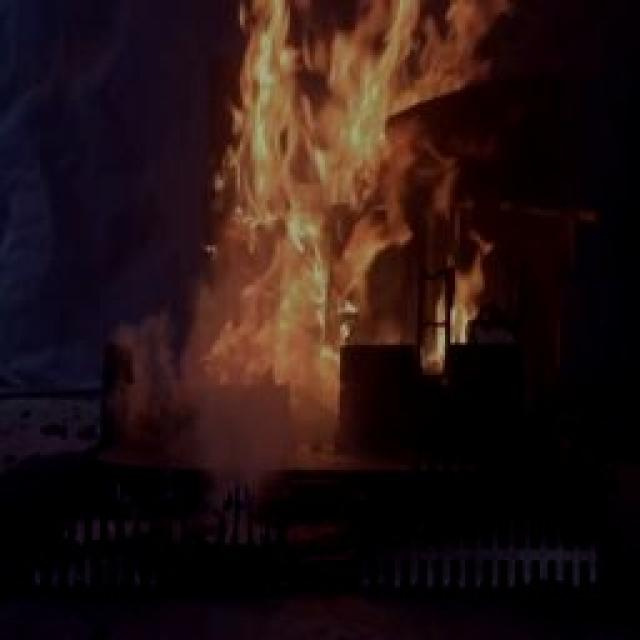fire: (146, 0, 586, 420)
